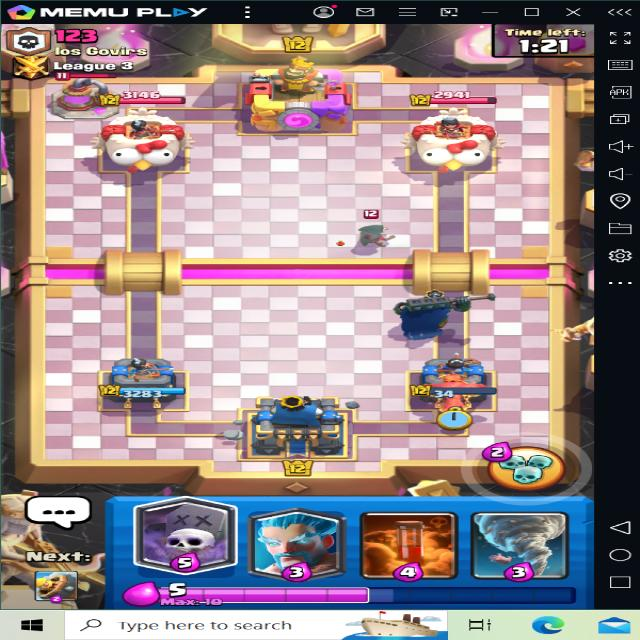bandit: (336, 216, 405, 256)
elixir-collector: (55, 75, 114, 119)
